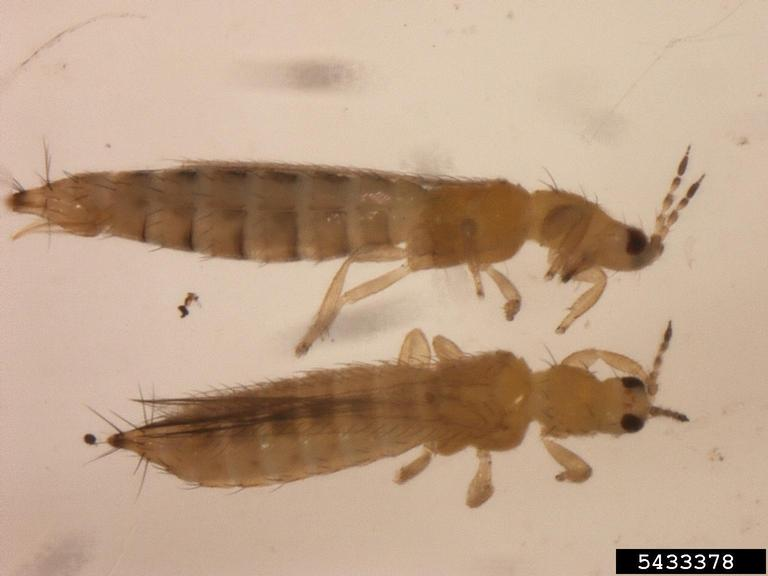Thrips: (66, 322, 726, 536), (19, 121, 696, 322)
